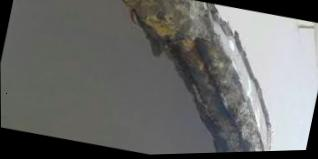spalling: (122, 0, 272, 153)
